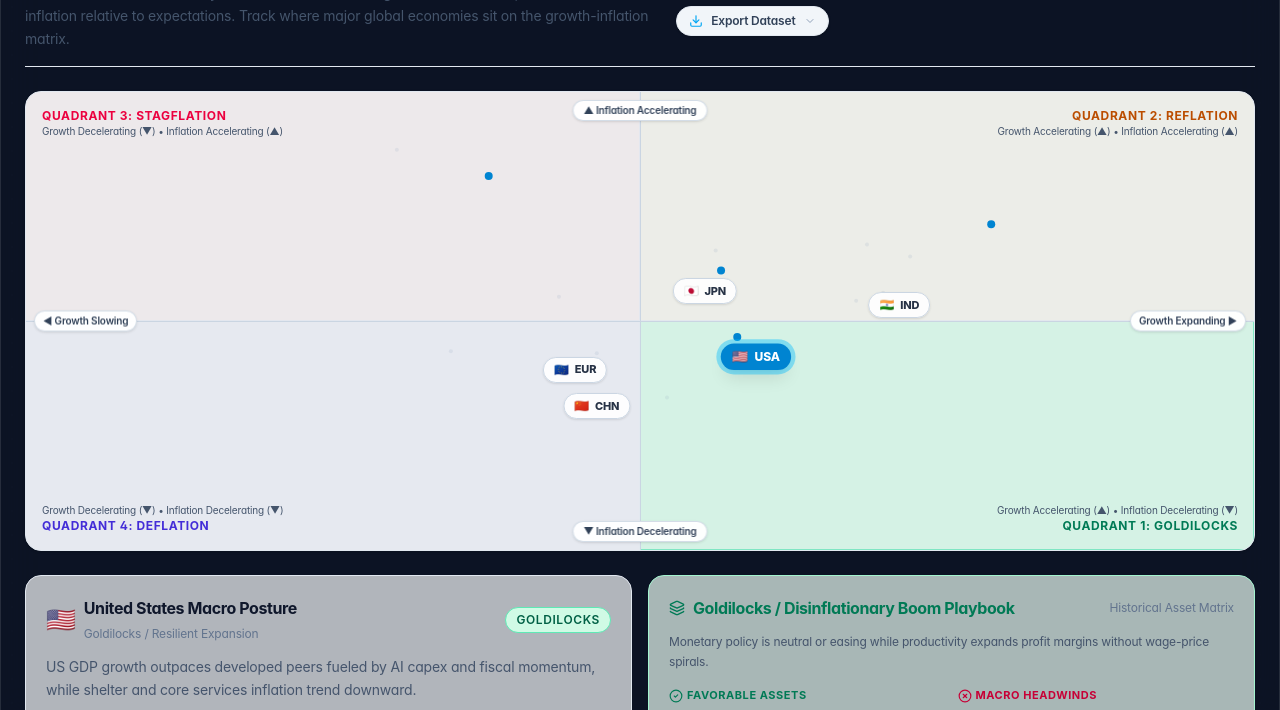
Test: MacroRegimeClock Component › updates asset class playbook when clicking a quadrant panel
This screenshot has width=1280, height=710.
# Click Stagflation panel
Step 1. Click the text "Quadrant 3: Stagflation" → (134, 116), box [42,108,226,124]
(page scrolled)
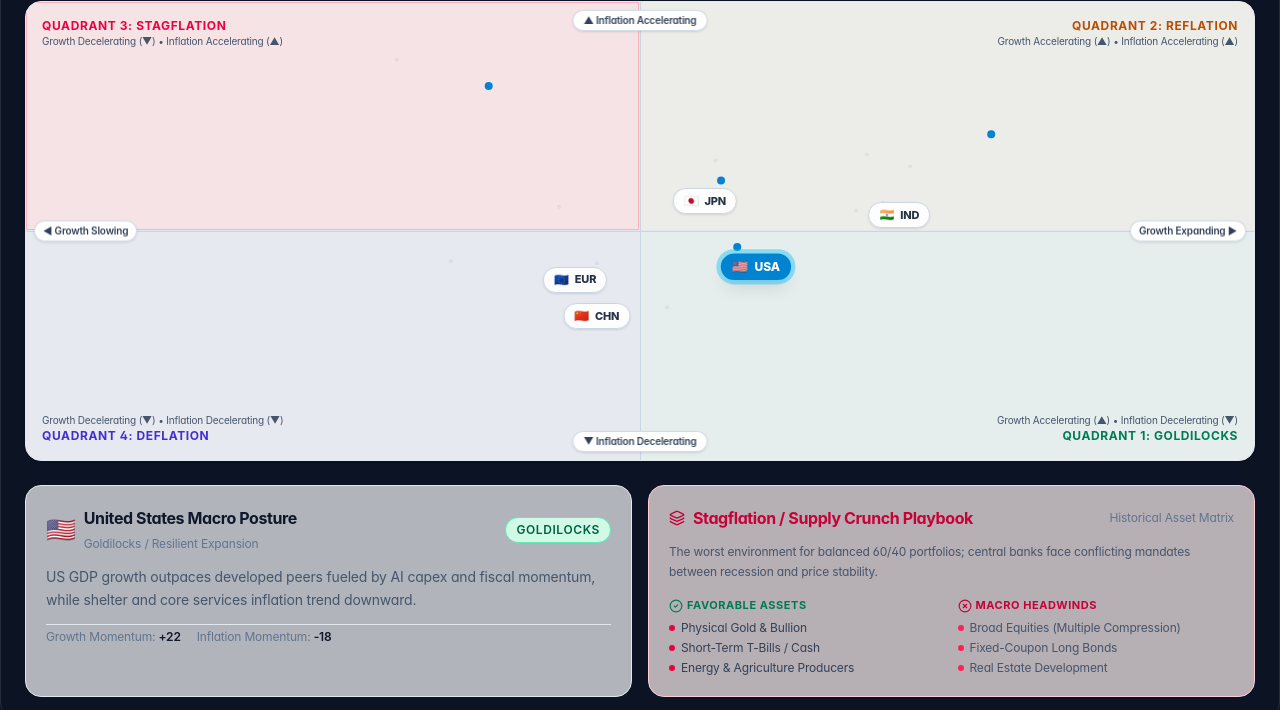
expect the text "Stagflation / Supply Crunch Playbook" is shown: met, box [693,506,973,530]
expect the list item "Physical Gold & Bullion" is shown: met, box [669,620,807,635]
